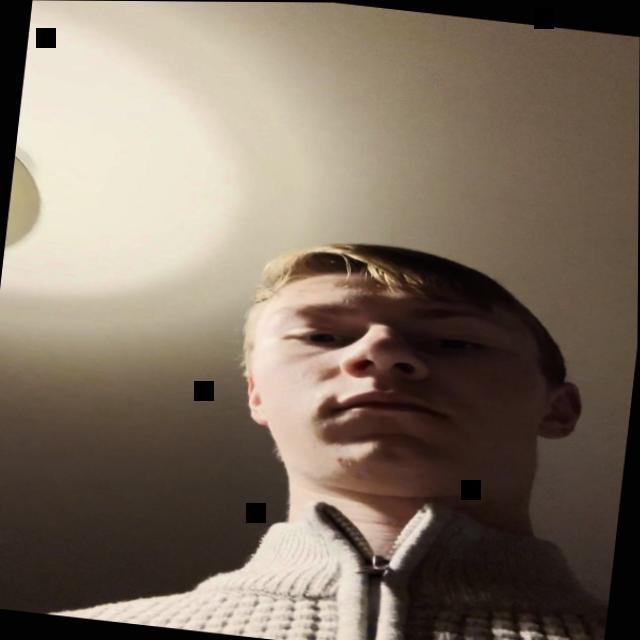NO-Mask: (224, 246, 581, 547)
